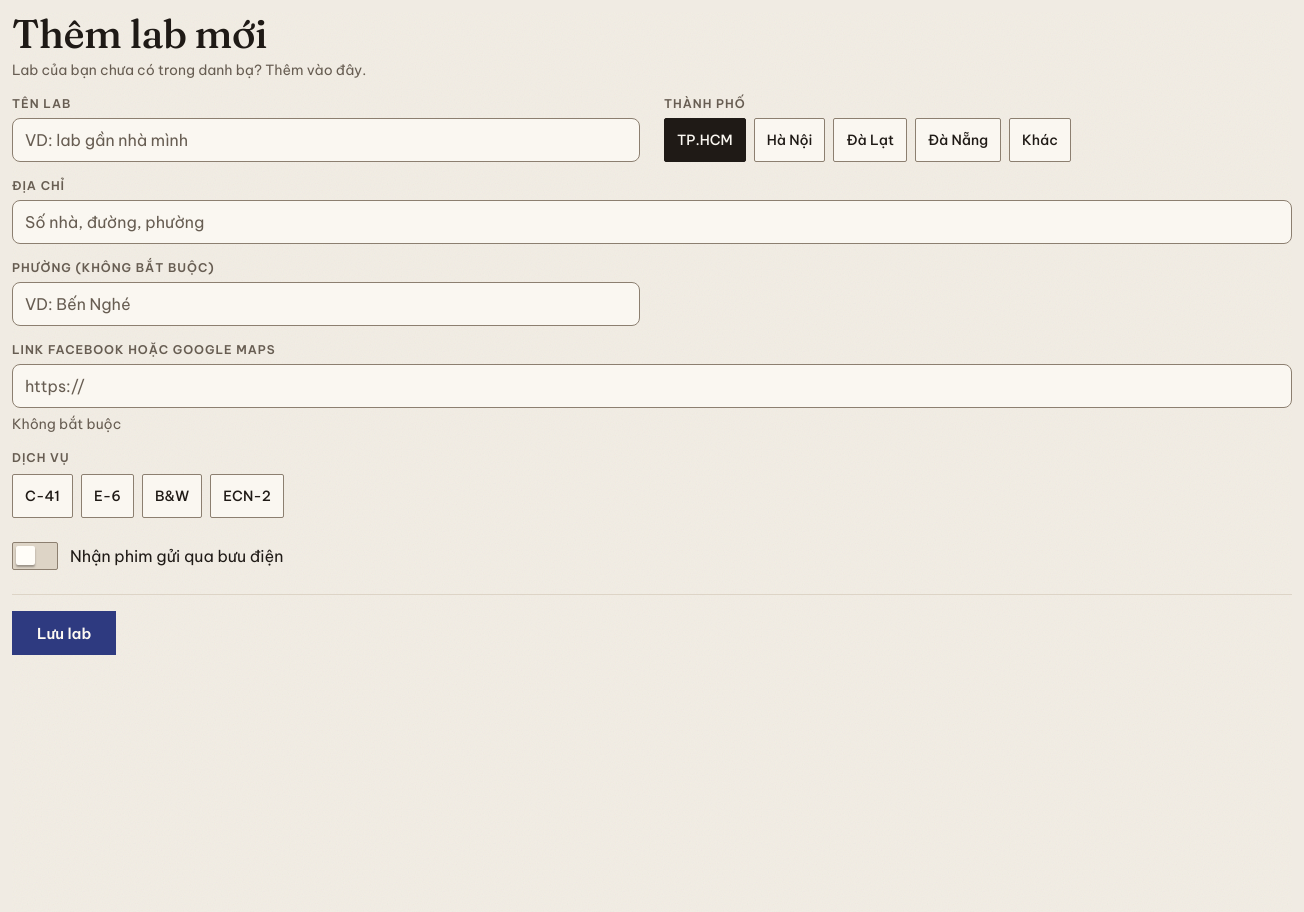
Test: LabAddForm › requires a name before submitting
Click the button "Lưu lab" at (64, 633), box [12,611,116,655]
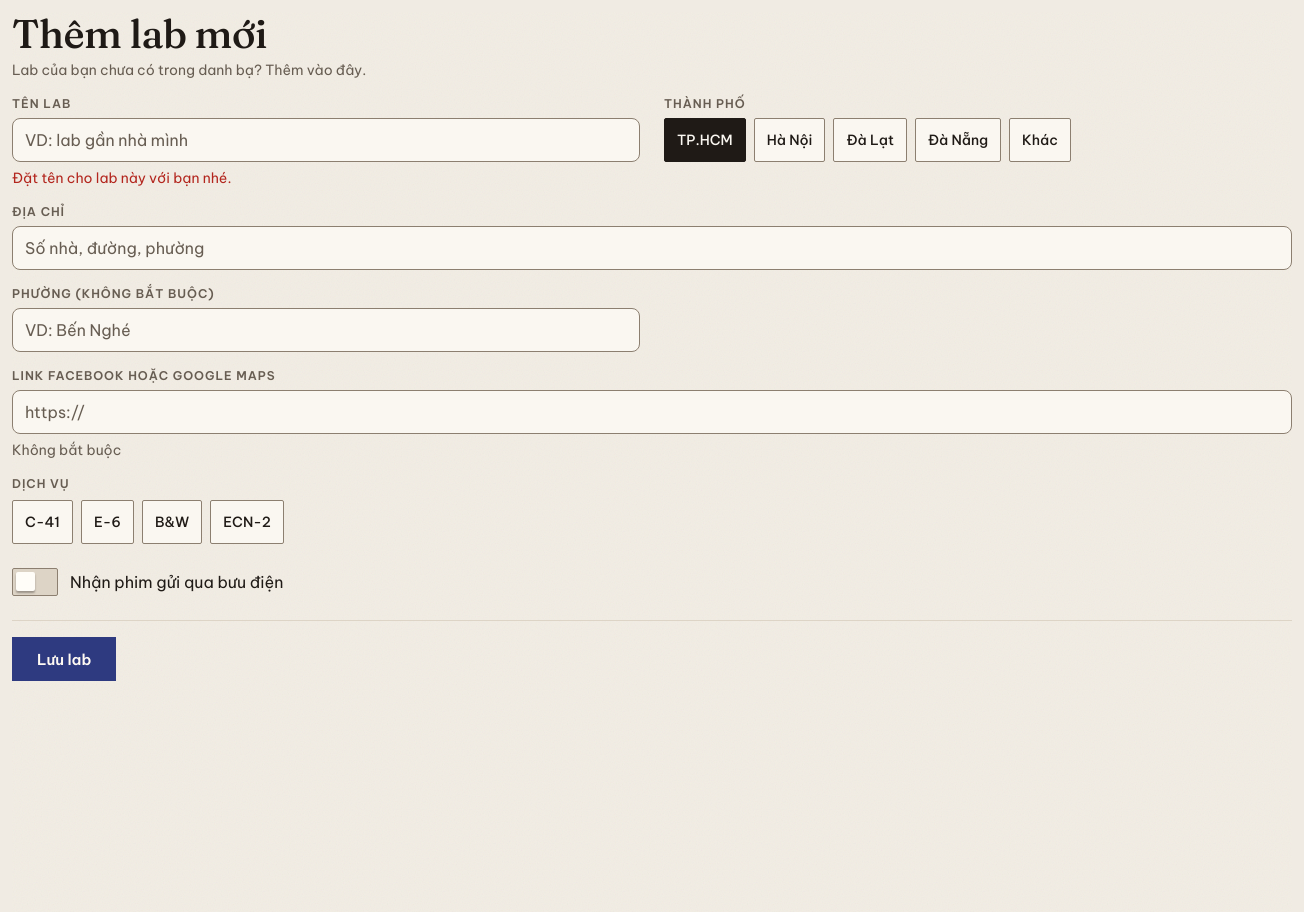
Expected: the text "Đặt tên cho lab này với bạn nhé." is shown, [12,169,231,187]
